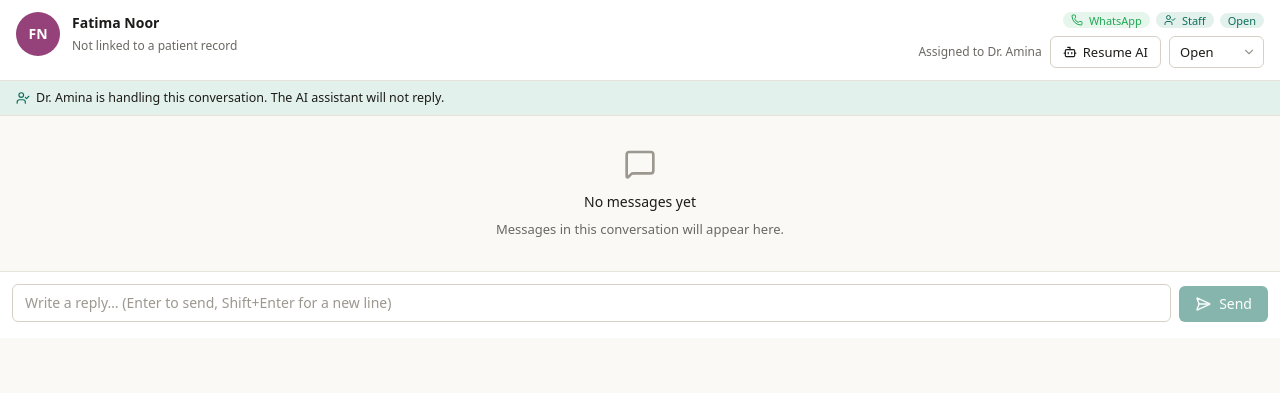
ConversationView › keeps the composer text and shows an error when sending a reply fails
The width and height of the screenshot is (1280, 393).
Type "This will fail to send." into the text box named "Reply message". click: (592, 303)
box: [12,284,1171,322]
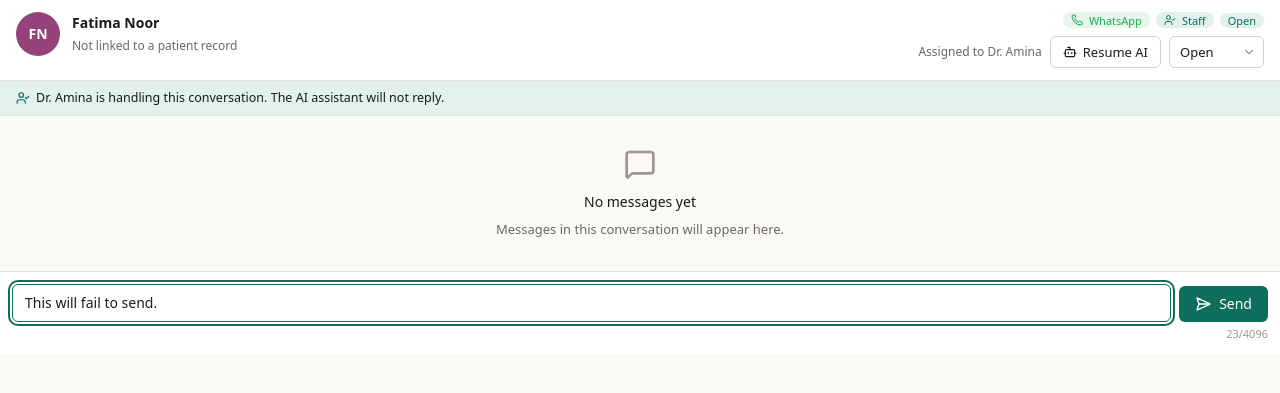
Click the button with aria-label "Send message". click: (1224, 304)
box: [1179,286,1268,322]
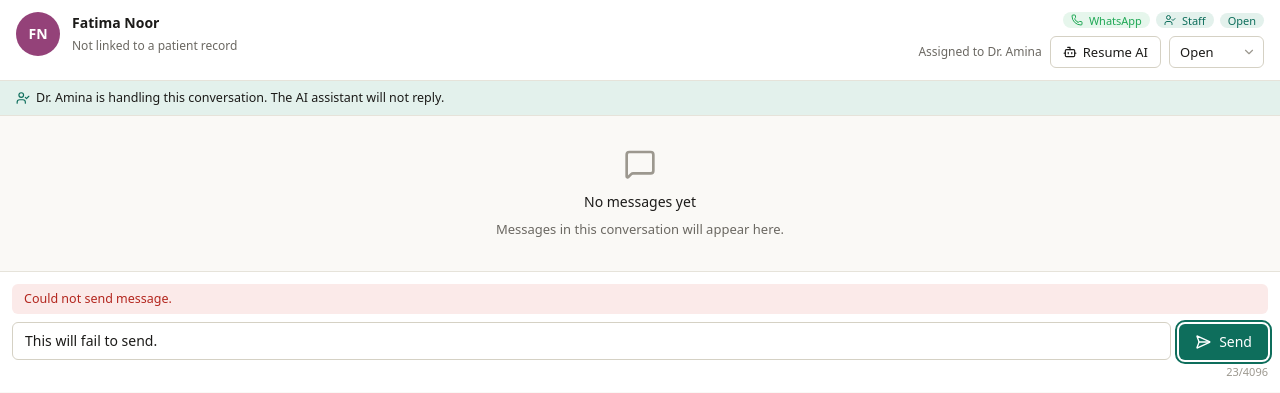
Check: the message reads "Could not send message.", box [24,290,172,307]
